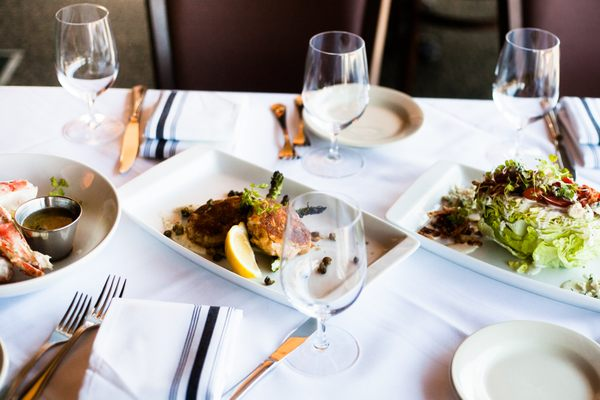burger: (14, 270, 128, 398), (3, 290, 94, 400), (168, 303, 210, 399), (116, 83, 147, 174), (140, 90, 175, 159)
pasta: (223, 221, 279, 284)
pizza: (492, 26, 561, 134)
sushi: (0, 150, 122, 314), (450, 320, 600, 396), (14, 195, 82, 257)
